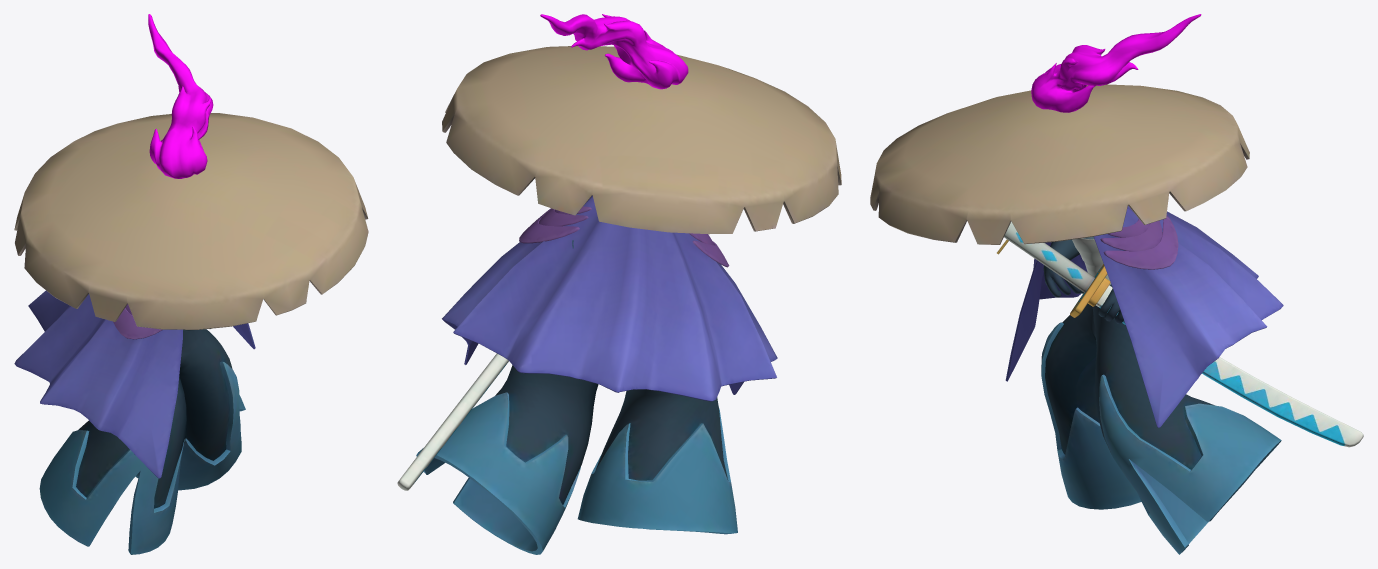
The model's file is ronin_dark_fcd59a.glb.
3 renders of one model, left to right at view 1: azimuth 30°, elevation 25°; view 2: azimuth 150°, elevation 25°; view 3: azimuth 270°, elevation 25°, orthographic. The views are drawn at different scales.
Size of the model in its own units: 1.79 by 2.67 by 2.32.
Materials: 5 (4 with a texture image).
